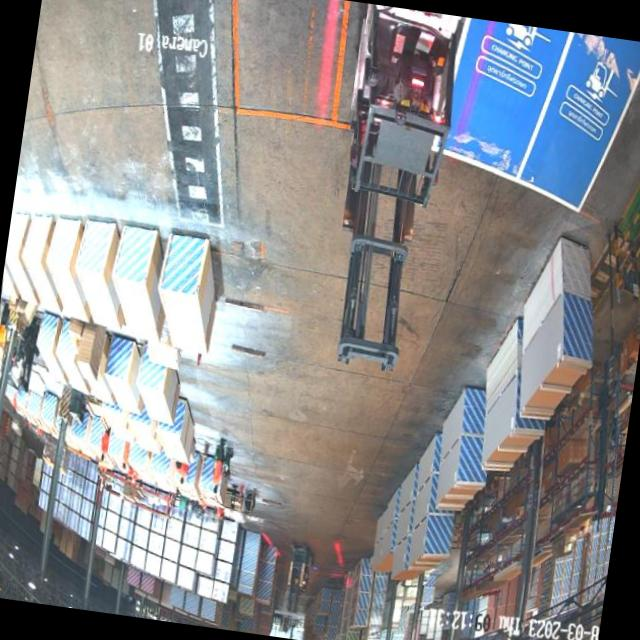forklift: (306, 2, 482, 390), (281, 541, 316, 601)
person: (208, 435, 230, 498), (98, 429, 112, 464), (120, 443, 131, 472), (176, 462, 189, 486)
